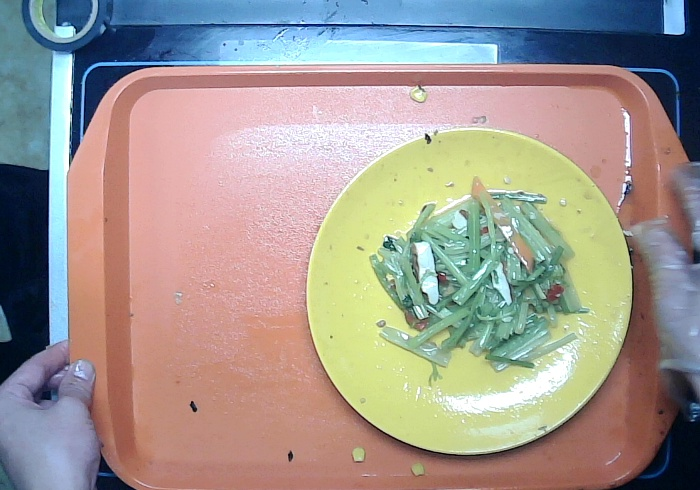HZYJPL-Huang_Se_Yuan_Pan: (301, 125, 634, 458)
